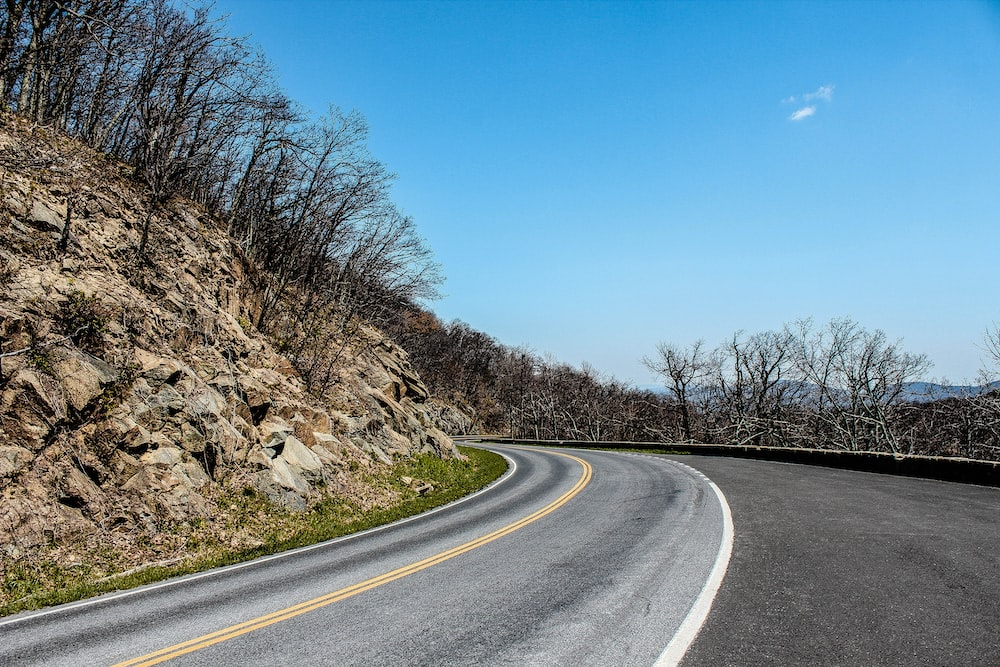leftTrun: (419, 395, 880, 647)
